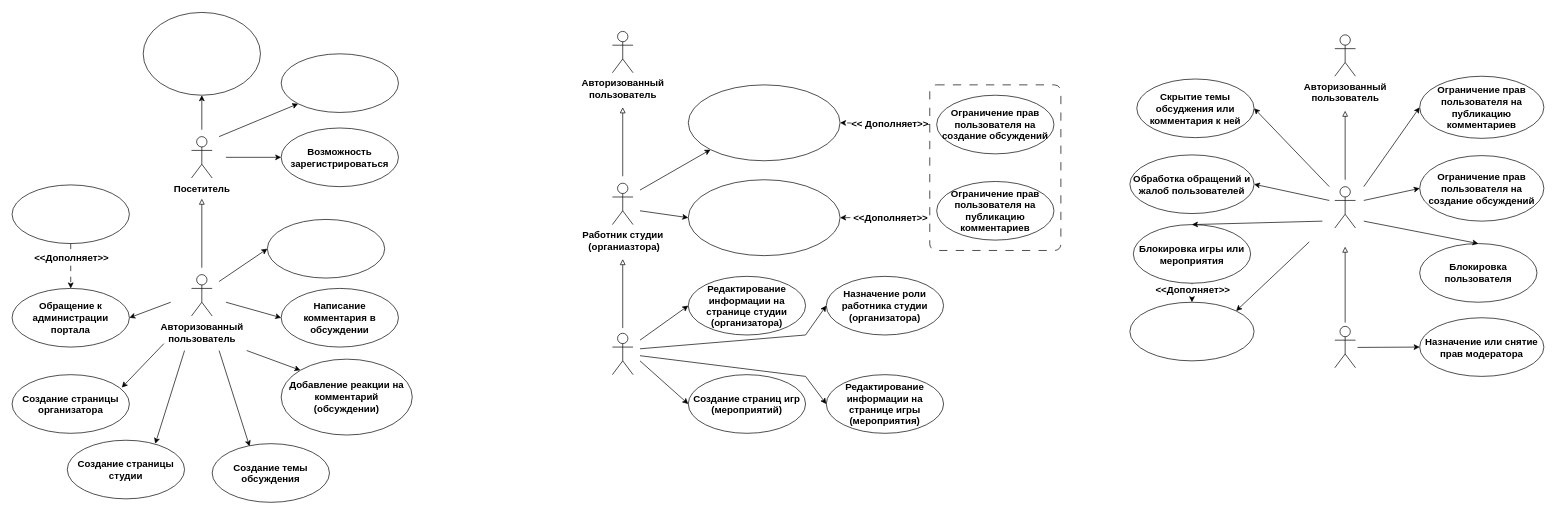
This 1556x514 diagram has some shape labels left out. The shapes that lost their labels are listed below. From the top down, each one's centre as x and y in pixels, then its label:
At (x=201, y=53): "Просмотр доступных страниц".
At (x=339, y=82): "Прохождение аутентификации".
At (x=764, y=122): "Модерация обсуждений на странице студии (организатора)".
At (x=70, y=214): "Подача жалобы на контент".
At (x=764, y=217): "Модерация обсуждений на странице игр (мероприятий)".
At (x=1345, y=207): "Модератор".
At (x=326, y=248): "Настройка профиля пользователя".
At (x=1191, y=331): "Блокировка студии или организатора".
At (x=1345, y=347): "Администратор".
At (x=622, y=354): "Владелец страницы студии (организатора)".
